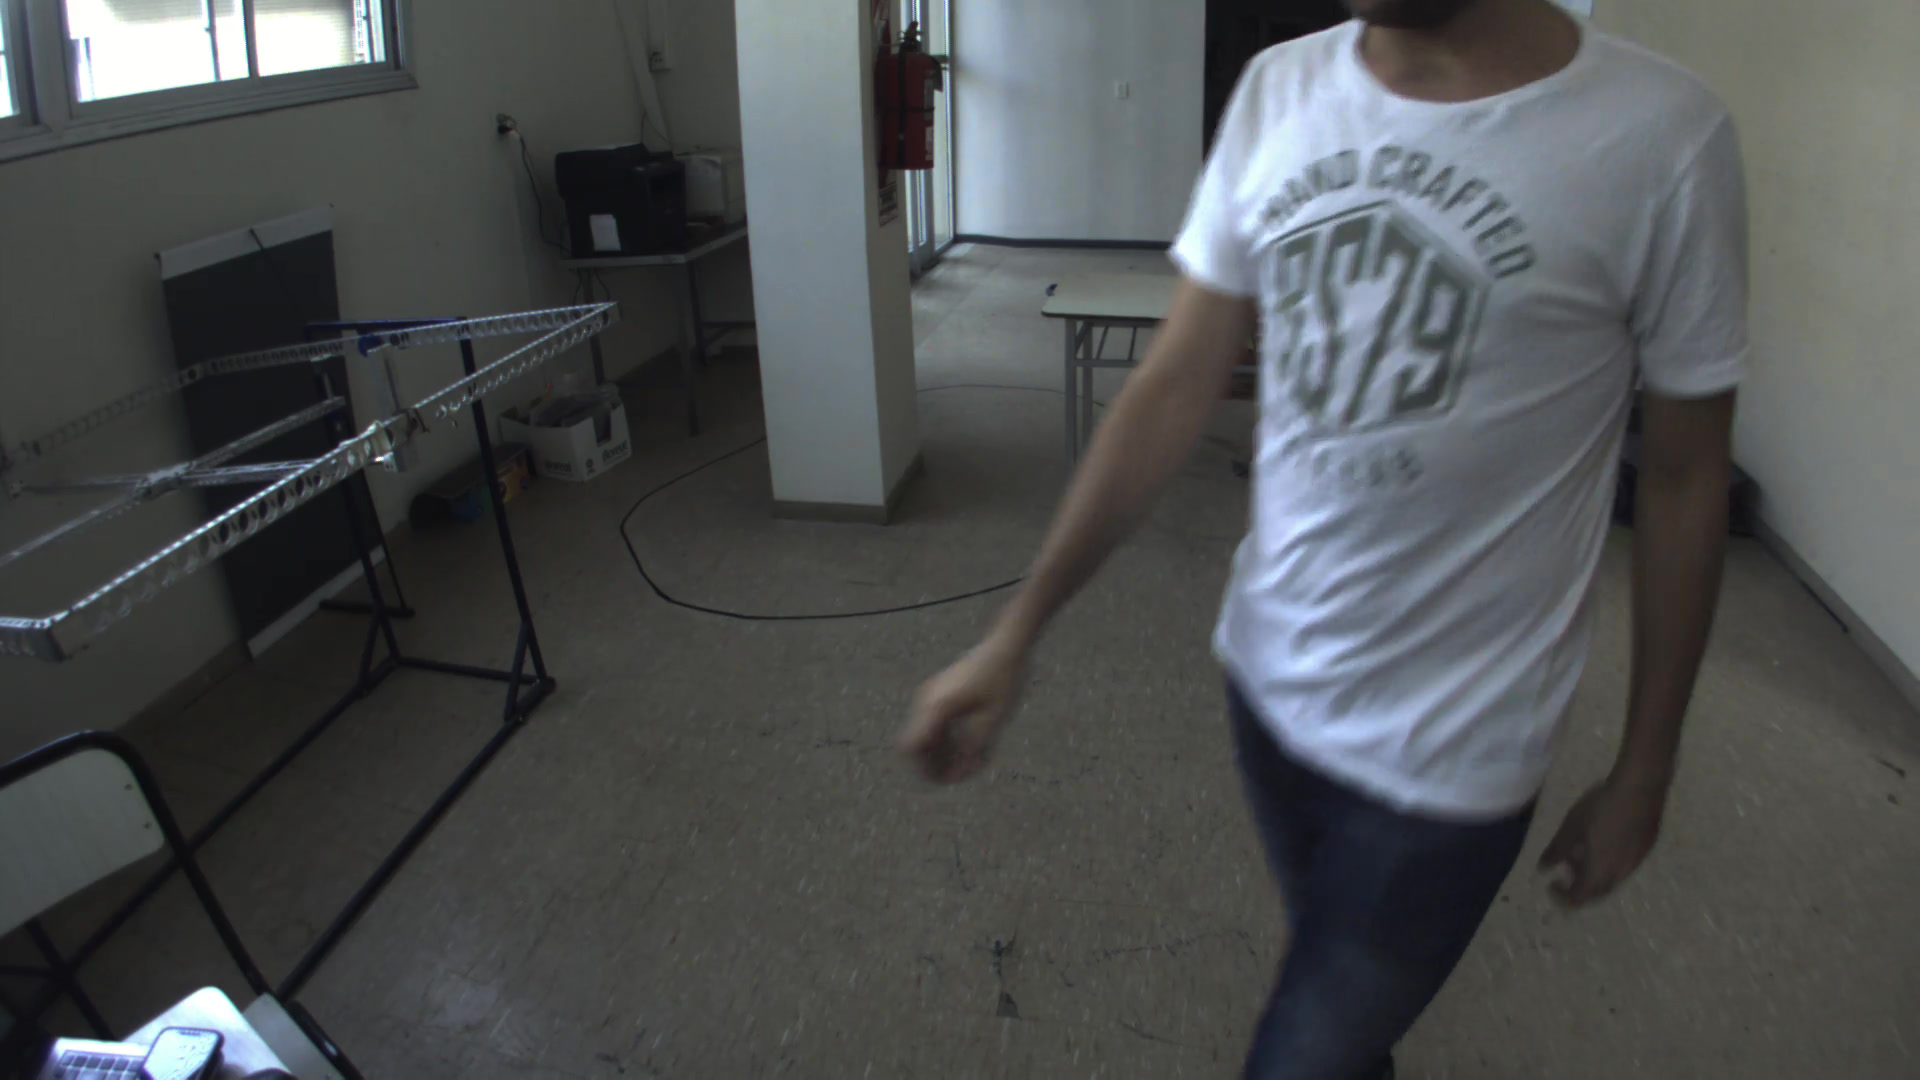hand: (894, 634, 1043, 793), (1539, 775, 1691, 916)
